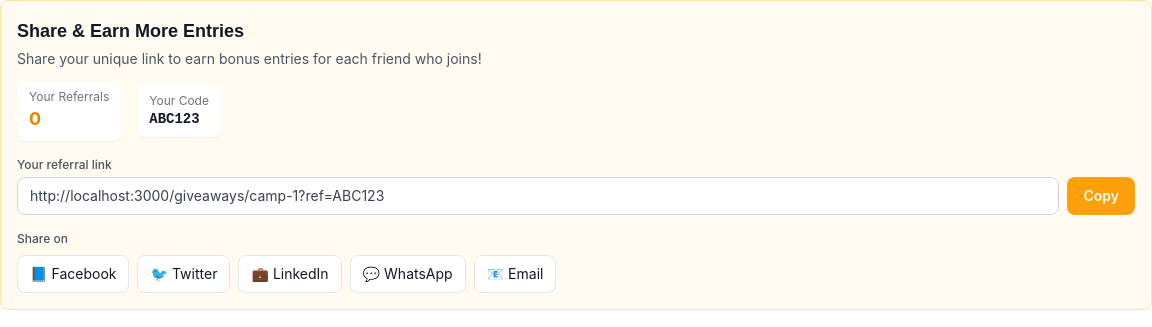
Test case: ReferralWidget › shows "Copied!" text after successful copy
This screenshot has width=1152, height=327.
What coordinates should you click on to do the following:
click the button with test id "copy-button"
I would click on:
 (1101, 196)
Its box is [1067, 177, 1135, 215].
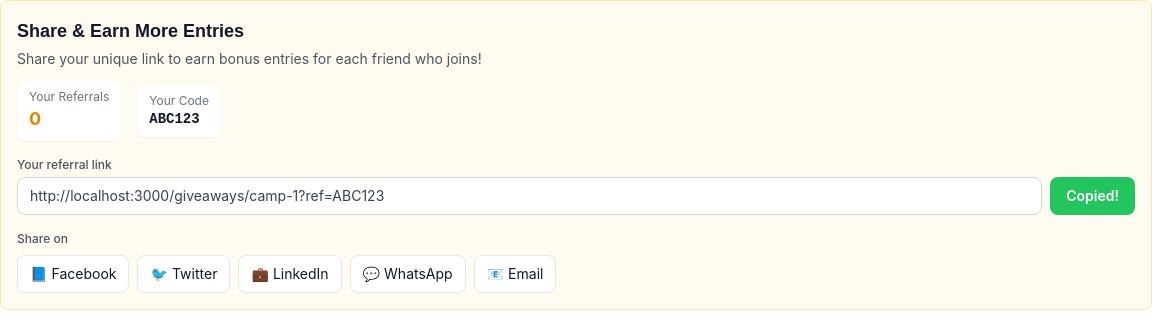
Result: the button with test id "copy-button" reads "Copied!" at [1050, 177, 1135, 215]
